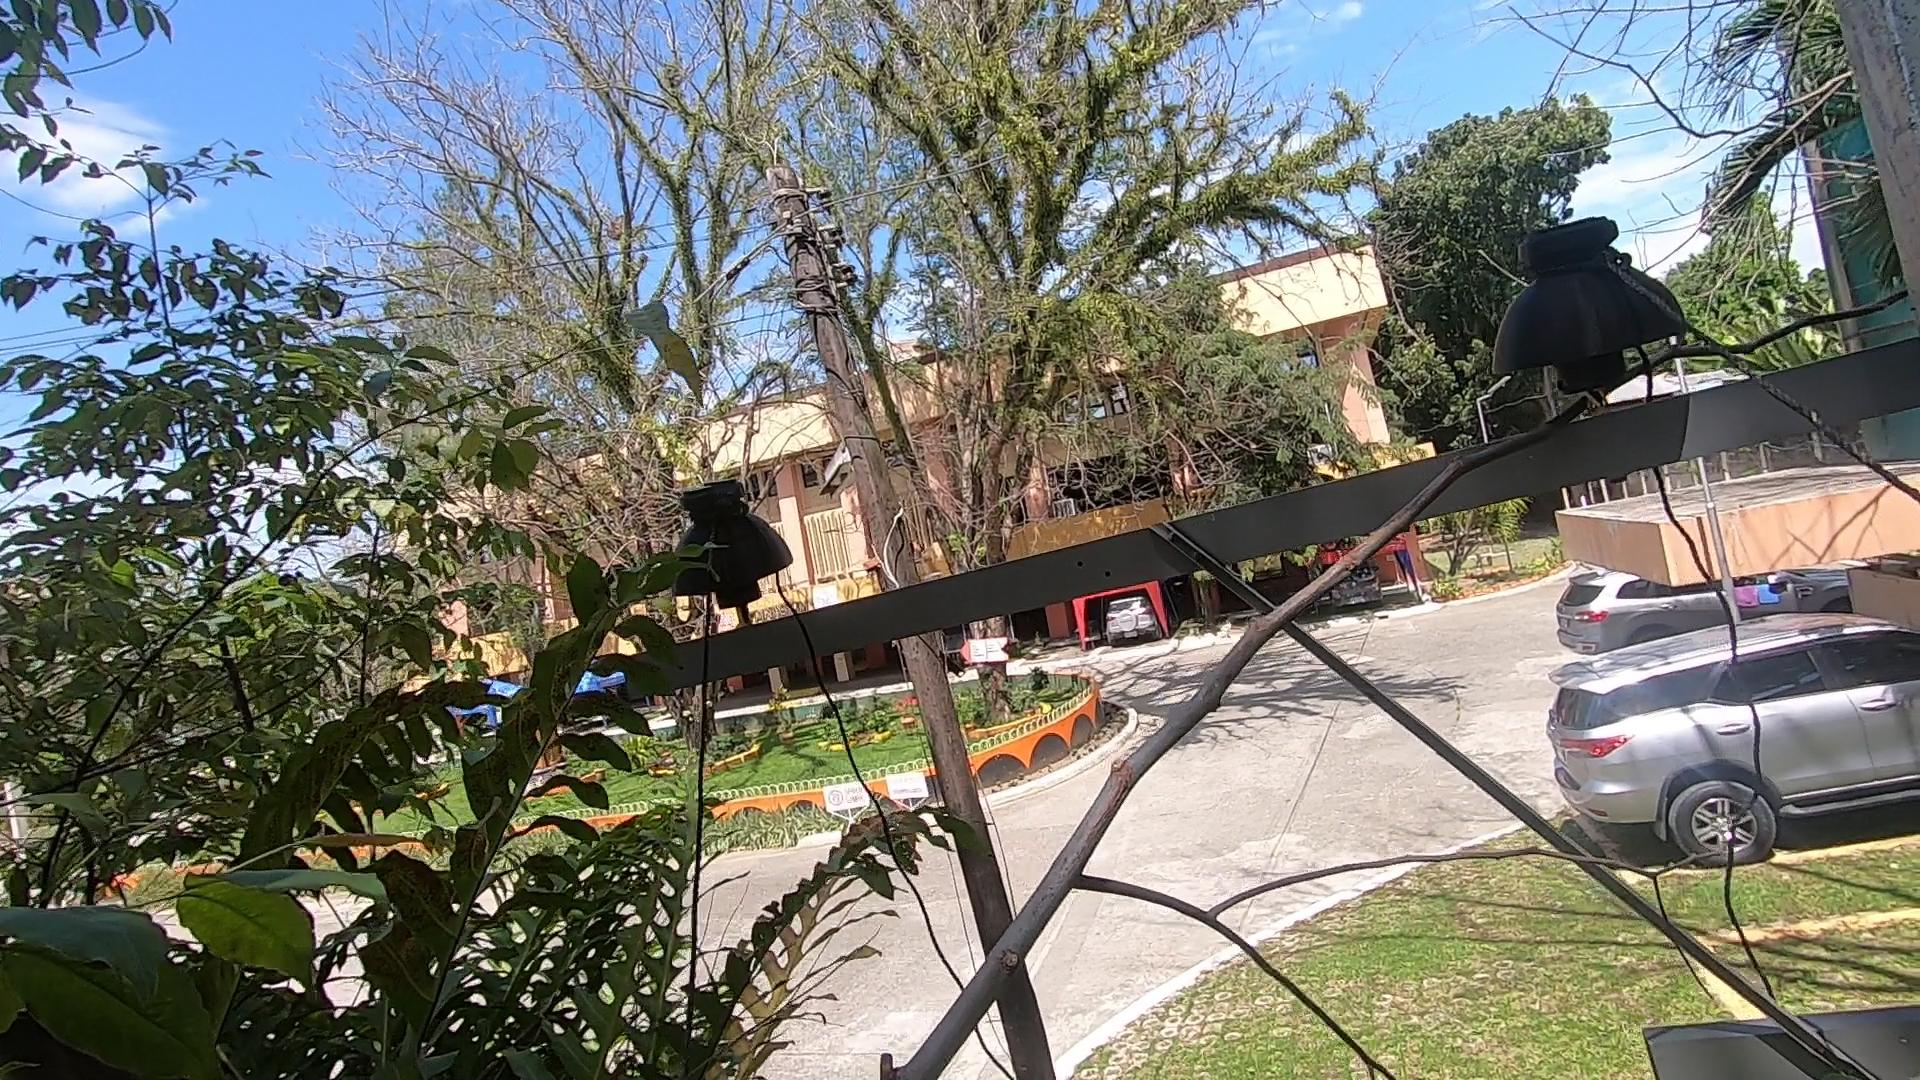tree branch: (808, 311, 1919, 1080)
